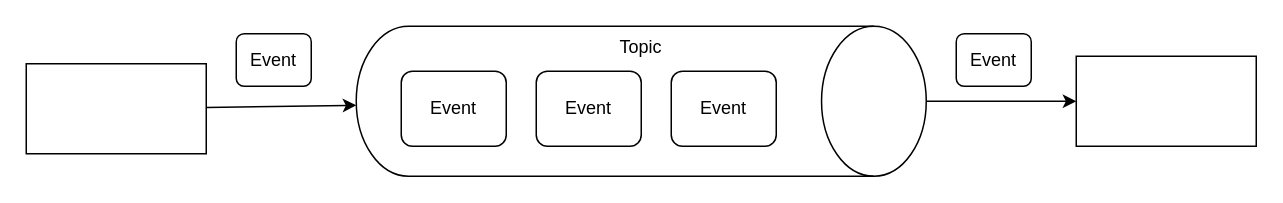
This 1283x203 diagram has some shape labels left out. Here are the shapes that lost their labels. From the top down, the centre of each, then its label:
the point at 115,108: Producer
the point at 1165,100: Consumer
